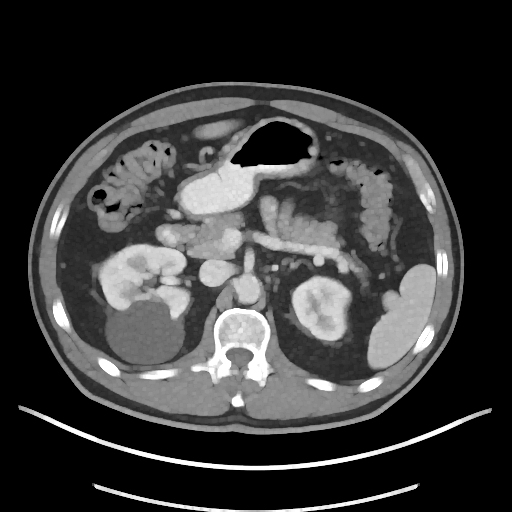Lesion: (102, 292, 186, 370)
